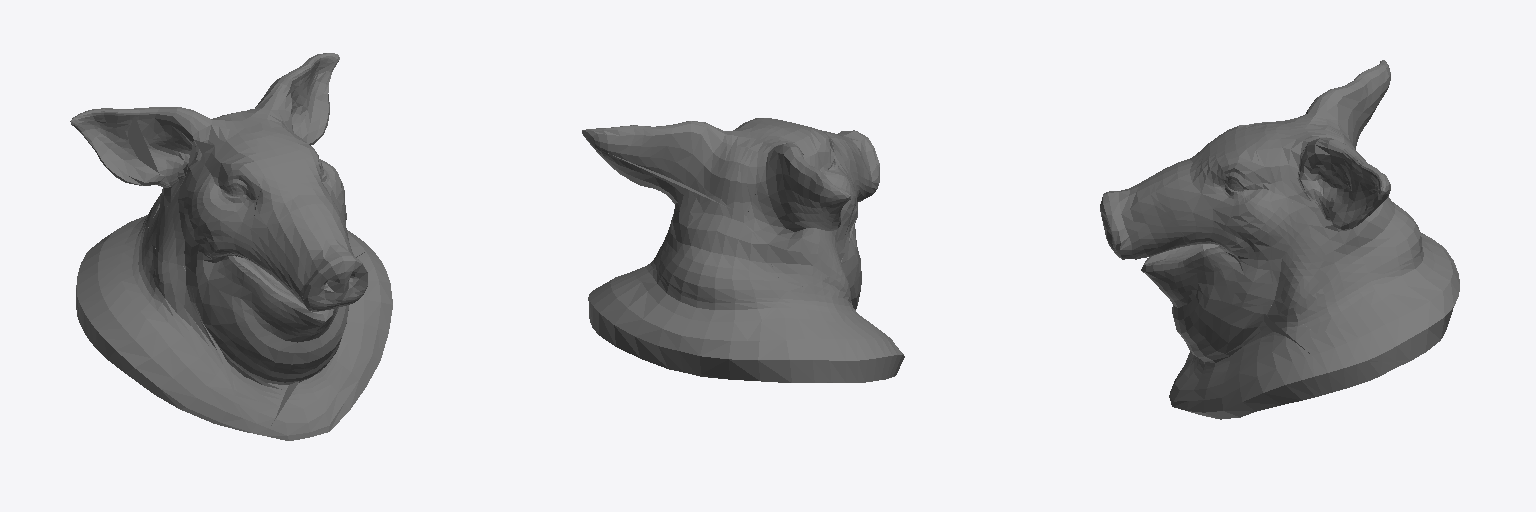
File: ShatteredPig_all_001.obj
The picture shows the model from 3 angles: view 1: azimuth 30°, elevation 25°; view 2: azimuth 150°, elevation 25°; view 3: azimuth 270°, elevation 25°; orthographic projection.
Parts seen in each view (by area): view 1: ShatteredPig_all:polySurface1 polySurface2 polySurface4 polySurf, polySurface1 ShatteredPig_all:polySurface1, ShatteredPig_all:polySurface1 polySurface3 polySurface2; view 2: ShatteredPig_all:polySurface1 polySurface2 polySurface4 polySurf, polySurface1 ShatteredPig_all:polySurface1; view 3: ShatteredPig_all:polySurface1 polySurface2 polySurface4 polySurf, ShatteredPig_all:polySurface1 polySurface3 polySurface2, polySurface1 ShatteredPig_all:polySurface1, ShatteredPig_all:polySurface1 polySurface2 polySurface5 polySurf.
Part boxes in pixels (bbox=[...]): ShatteredPig_all:polySurface1 polySurface2 polySurface4 polySurf: bbox=[70, 53, 352, 432]; polySurface1 ShatteredPig_all:polySurface1: bbox=[183, 221, 367, 435]; ShatteredPig_all:polySurface1 polySurface3 polySurface2: bbox=[264, 252, 392, 440]; ShatteredPig_all:polySurface1 polySurface2 polySurface4 polySurf: bbox=[582, 118, 904, 382]; polySurface1 ShatteredPig_all:polySurface1: bbox=[833, 130, 879, 309]; ShatteredPig_all:polySurface1 polySurface2 polySurface4 polySurf: bbox=[1155, 60, 1459, 361]; ShatteredPig_all:polySurface1 polySurface3 polySurface2: bbox=[1169, 302, 1329, 419]; polySurface1 ShatteredPig_all:polySurface1: bbox=[1100, 167, 1241, 363]; ShatteredPig_all:polySurface1 polySurface2 polySurface5 polySurf: bbox=[1263, 305, 1411, 392].
Bounding box in the file's own units: 114 × 109 × 126.